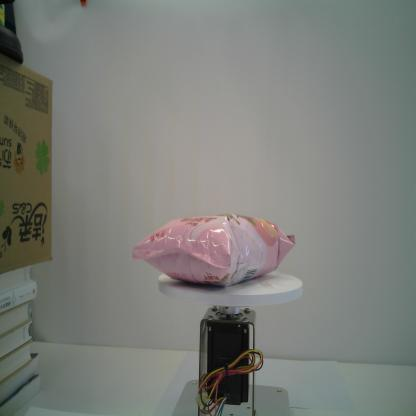Puffed Food: (128, 211, 297, 290)
